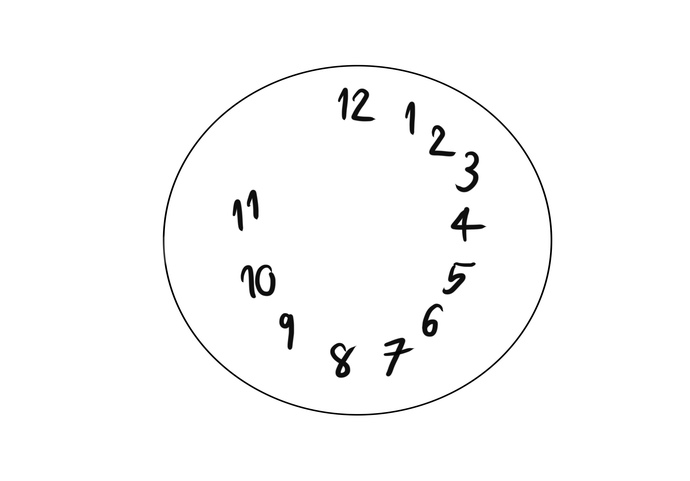eight: (319, 335, 358, 379)
eleven: (226, 178, 265, 228)
five: (443, 250, 483, 302)
four: (444, 202, 485, 246)
nine: (280, 298, 303, 354)
one: (397, 96, 427, 145)
seven: (383, 331, 411, 371)
six: (419, 294, 444, 343)
ten: (239, 258, 280, 299)
three: (458, 146, 478, 188)
twelve: (343, 83, 377, 123)
two: (425, 116, 458, 159)
